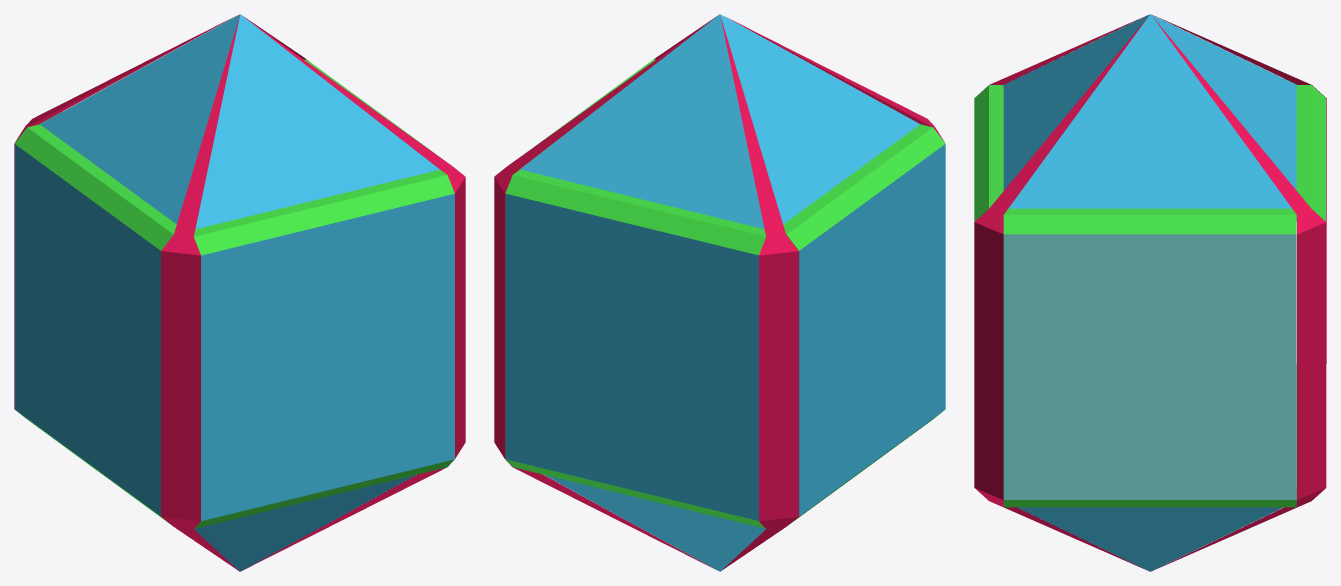
The picture shows the model from 3 angles, left to right: view 1: azimuth 30°, elevation 25°; view 2: azimuth 150°, elevation 25°; view 3: azimuth 270°, elevation 25°; orthographic projection.
Parts seen in each view (by area): view 1: FaceD, UpFace, FaceC, Side D, JoinUp, UpFace.001, Side A, JoinDown, Side C; view 2: FaceB, UpFace, FaceC, Side C, JoinUp, UpFace.001, Side B, JoinDown, Side D; view 3: FaceA, UpFace, JoinUp, Side B, Side A, UpFace.001, JoinDown, Side C, Side D.
Boxes of the visible parts, x1=… form: FaceD: x1=201, y1=193, x2=454, y2=520; UpFace: x1=40, y1=14, x2=439, y2=229; FaceC: x1=14, y1=144, x2=160, y2=516; Side D: x1=161, y1=17, x2=239, y2=570; JoinUp: x1=14, y1=59, x2=454, y2=255; UpFace.001: x1=194, y1=475, x2=415, y2=571; Side A: x1=242, y1=16, x2=465, y2=570; JoinDown: x1=18, y1=412, x2=454, y2=528; Side C: x1=14, y1=16, x2=235, y2=408; FaceB: x1=505, y1=193, x2=758, y2=520; UpFace: x1=520, y1=14, x2=919, y2=228; FaceC: x1=799, y1=144, x2=945, y2=516; Side C: x1=720, y1=16, x2=798, y2=571; JoinUp: x1=505, y1=59, x2=945, y2=255; UpFace.001: x1=544, y1=475, x2=765, y2=571; Side B: x1=494, y1=17, x2=715, y2=568; JoinDown: x1=506, y1=411, x2=942, y2=528; Side D: x1=724, y1=16, x2=944, y2=141; FaceA: x1=1003, y1=234, x2=1296, y2=499; UpFace: x1=1003, y1=14, x2=1296, y2=208; JoinUp: x1=974, y1=78, x2=1325, y2=234; Side B: x1=1152, y1=16, x2=1326, y2=570; Side A: x1=974, y1=16, x2=1148, y2=569; UpFace.001: x1=1017, y1=507, x2=1282, y2=571; JoinDown: x1=1003, y1=364, x2=1296, y2=507; Side C: x1=1153, y1=15, x2=1326, y2=363; Side D: x1=989, y1=15, x2=1147, y2=84.
Bounding box in the file's own units: 240 × 420 × 240.
